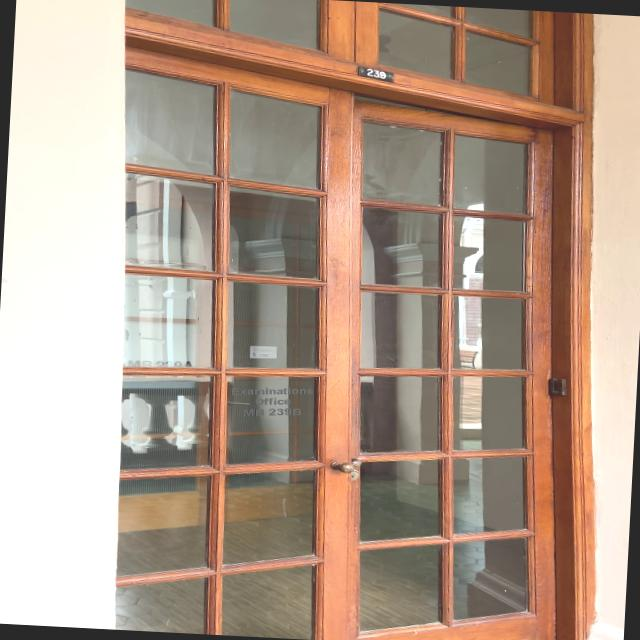room239: (354, 64, 396, 82)
